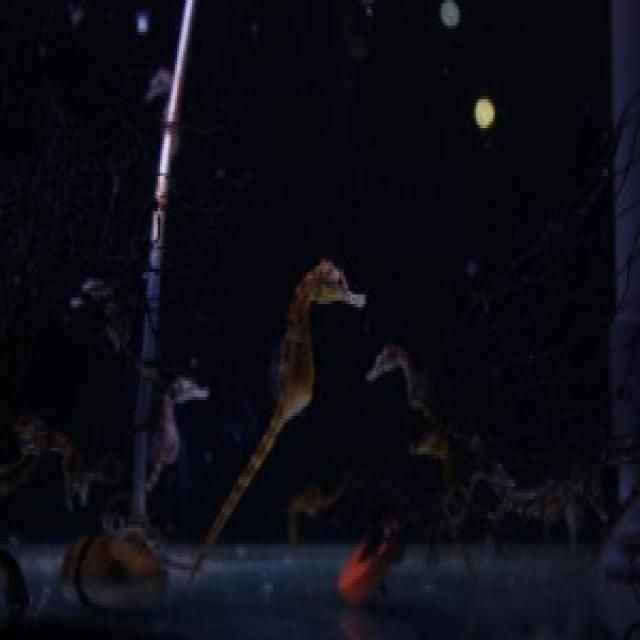Seahorse: (209, 248, 370, 554), (148, 359, 204, 493), (367, 329, 430, 427)
